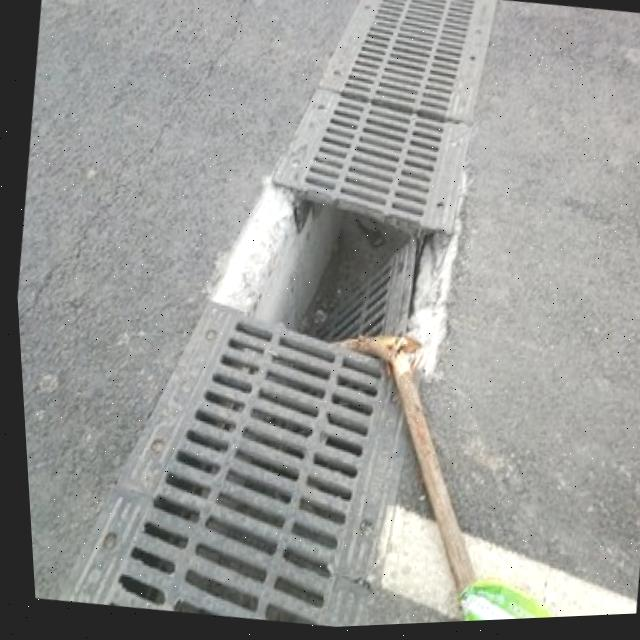manhole: (203, 155, 455, 386)
